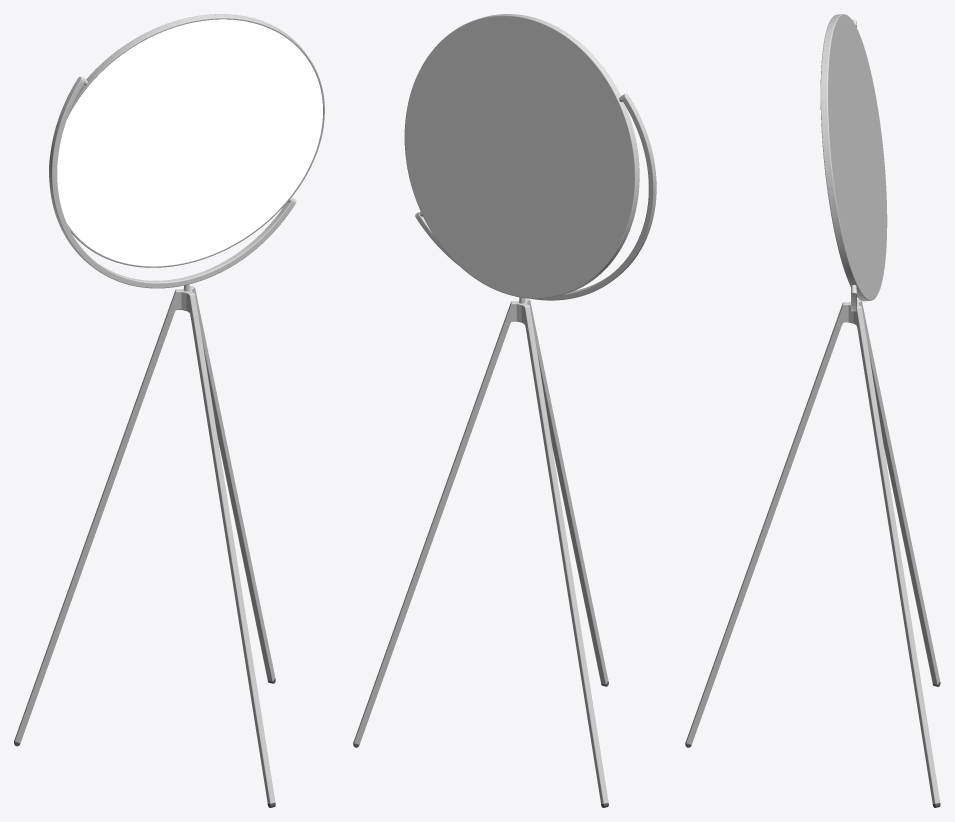
The model's file is flos_superloon.gltf.
The picture shows the model from 3 angles, left to right: view 1: azimuth 30°, elevation 25°; view 2: azimuth 150°, elevation 25°; view 3: azimuth 270°, elevation 25°; orthographic projection. The views are drawn at different scales.
Parts seen in each view (by area): view 1: g Mesh; view 2: g Mesh; view 3: g Mesh.
Part boxes in pixels (box(x1,y1,x2,y2)): g Mesh: box(14, 14, 324, 807); g Mesh: box(353, 14, 656, 807); g Mesh: box(685, 14, 940, 807).
Bounding box in the file's own units: 0.7484 × 1.97 × 0.6348.
Materials: 3 (3 with a texture image).
